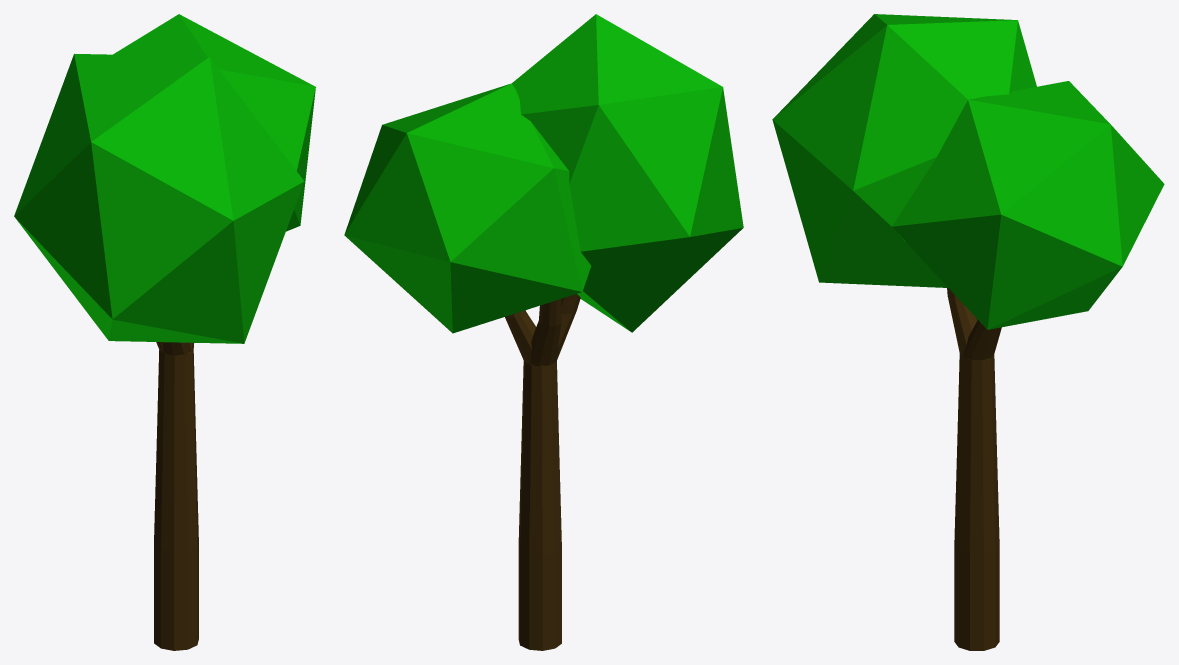
The model's file is tree.fbx.
3 views of the same model, side by side, from view 1: azimuth 30°, elevation 25°; view 2: azimuth 150°, elevation 25°; view 3: azimuth 270°, elevation 25° (orthographic). The views are drawn at different scales.
Visible parts, largest first — view 1: Icosphere.001, Cylinder.001; view 2: Icosphere.001, Cylinder.001; view 3: Icosphere.001, Cylinder.001.
Part boxes in pixels (bbox=[...]): Icosphere.001: bbox=[14, 14, 315, 343]; Cylinder.001: bbox=[154, 342, 198, 650]; Icosphere.001: bbox=[344, 14, 743, 333]; Cylinder.001: bbox=[505, 294, 580, 650]; Icosphere.001: bbox=[772, 14, 1164, 329]; Cylinder.001: bbox=[947, 288, 1001, 650].
Bounding box in the file's own units: 1560 × 2980 × 1733.
